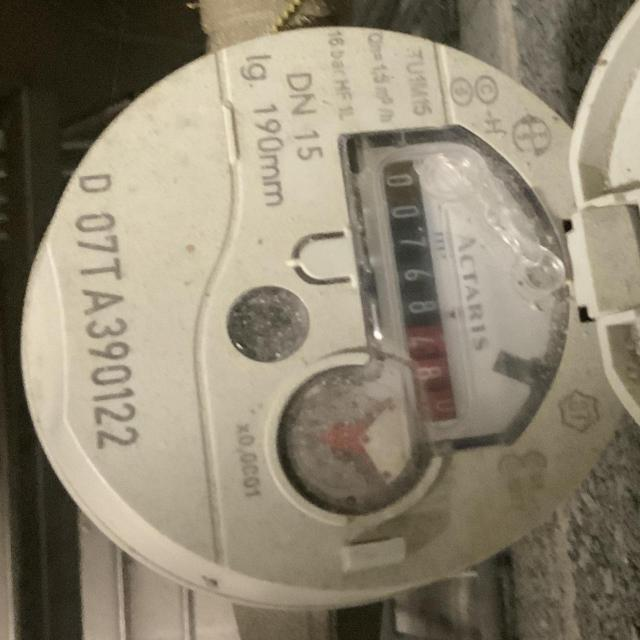gaz_meter: (24, 53, 626, 593)
indication: (377, 157, 464, 428)
